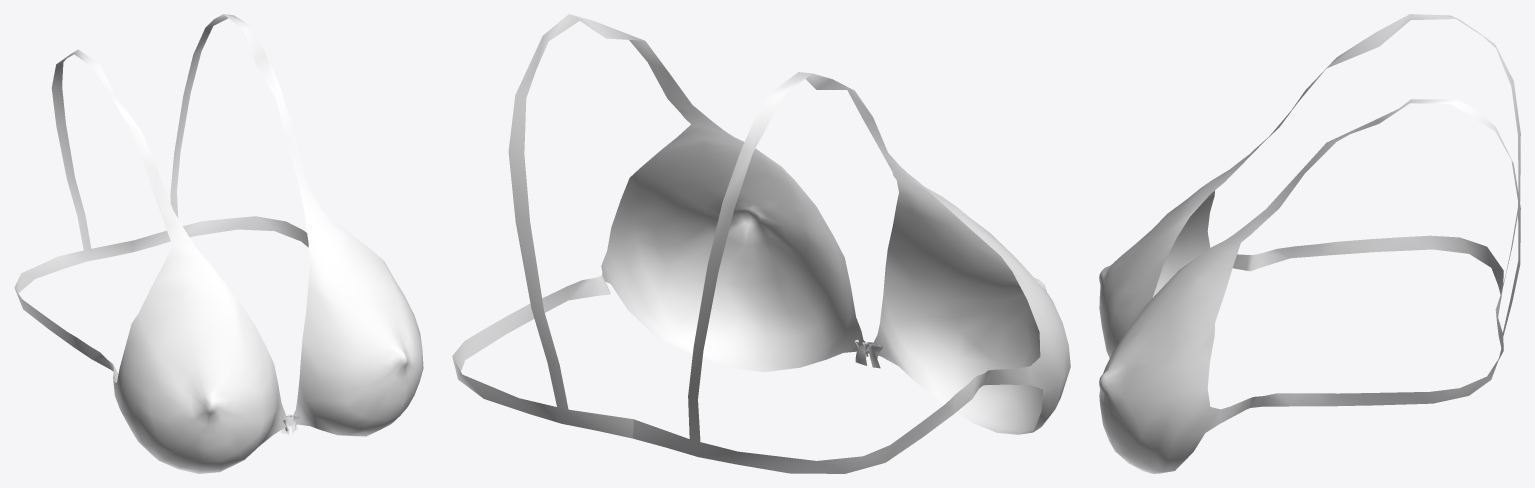
File: Bra1.fbx
3 views of the same model, side by side, from view 1: azimuth 30°, elevation 25°; view 2: azimuth 150°, elevation 25°; view 3: azimuth 270°, elevation 25° (orthographic). The views are drawn at different scales.
Visible parts, largest first — view 1: Bra_mesh; view 2: Bra_mesh; view 3: Bra_mesh.
Boxes of the visible parts, box(x1,y1,x2,y2) form: Bra_mesh: box(14, 14, 423, 473); Bra_mesh: box(452, 14, 1070, 473); Bra_mesh: box(1099, 14, 1520, 473).
Bounding box in the file's own units: 23 × 24.22 × 25.44.
Materials: 1 (1 with a texture image).
